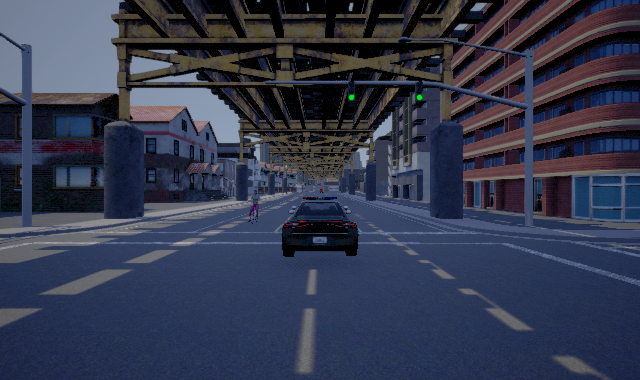bike: (245, 189, 262, 223)
traffic_light: (415, 81, 423, 102), (348, 81, 355, 102)
vehicle: (281, 197, 359, 257)
